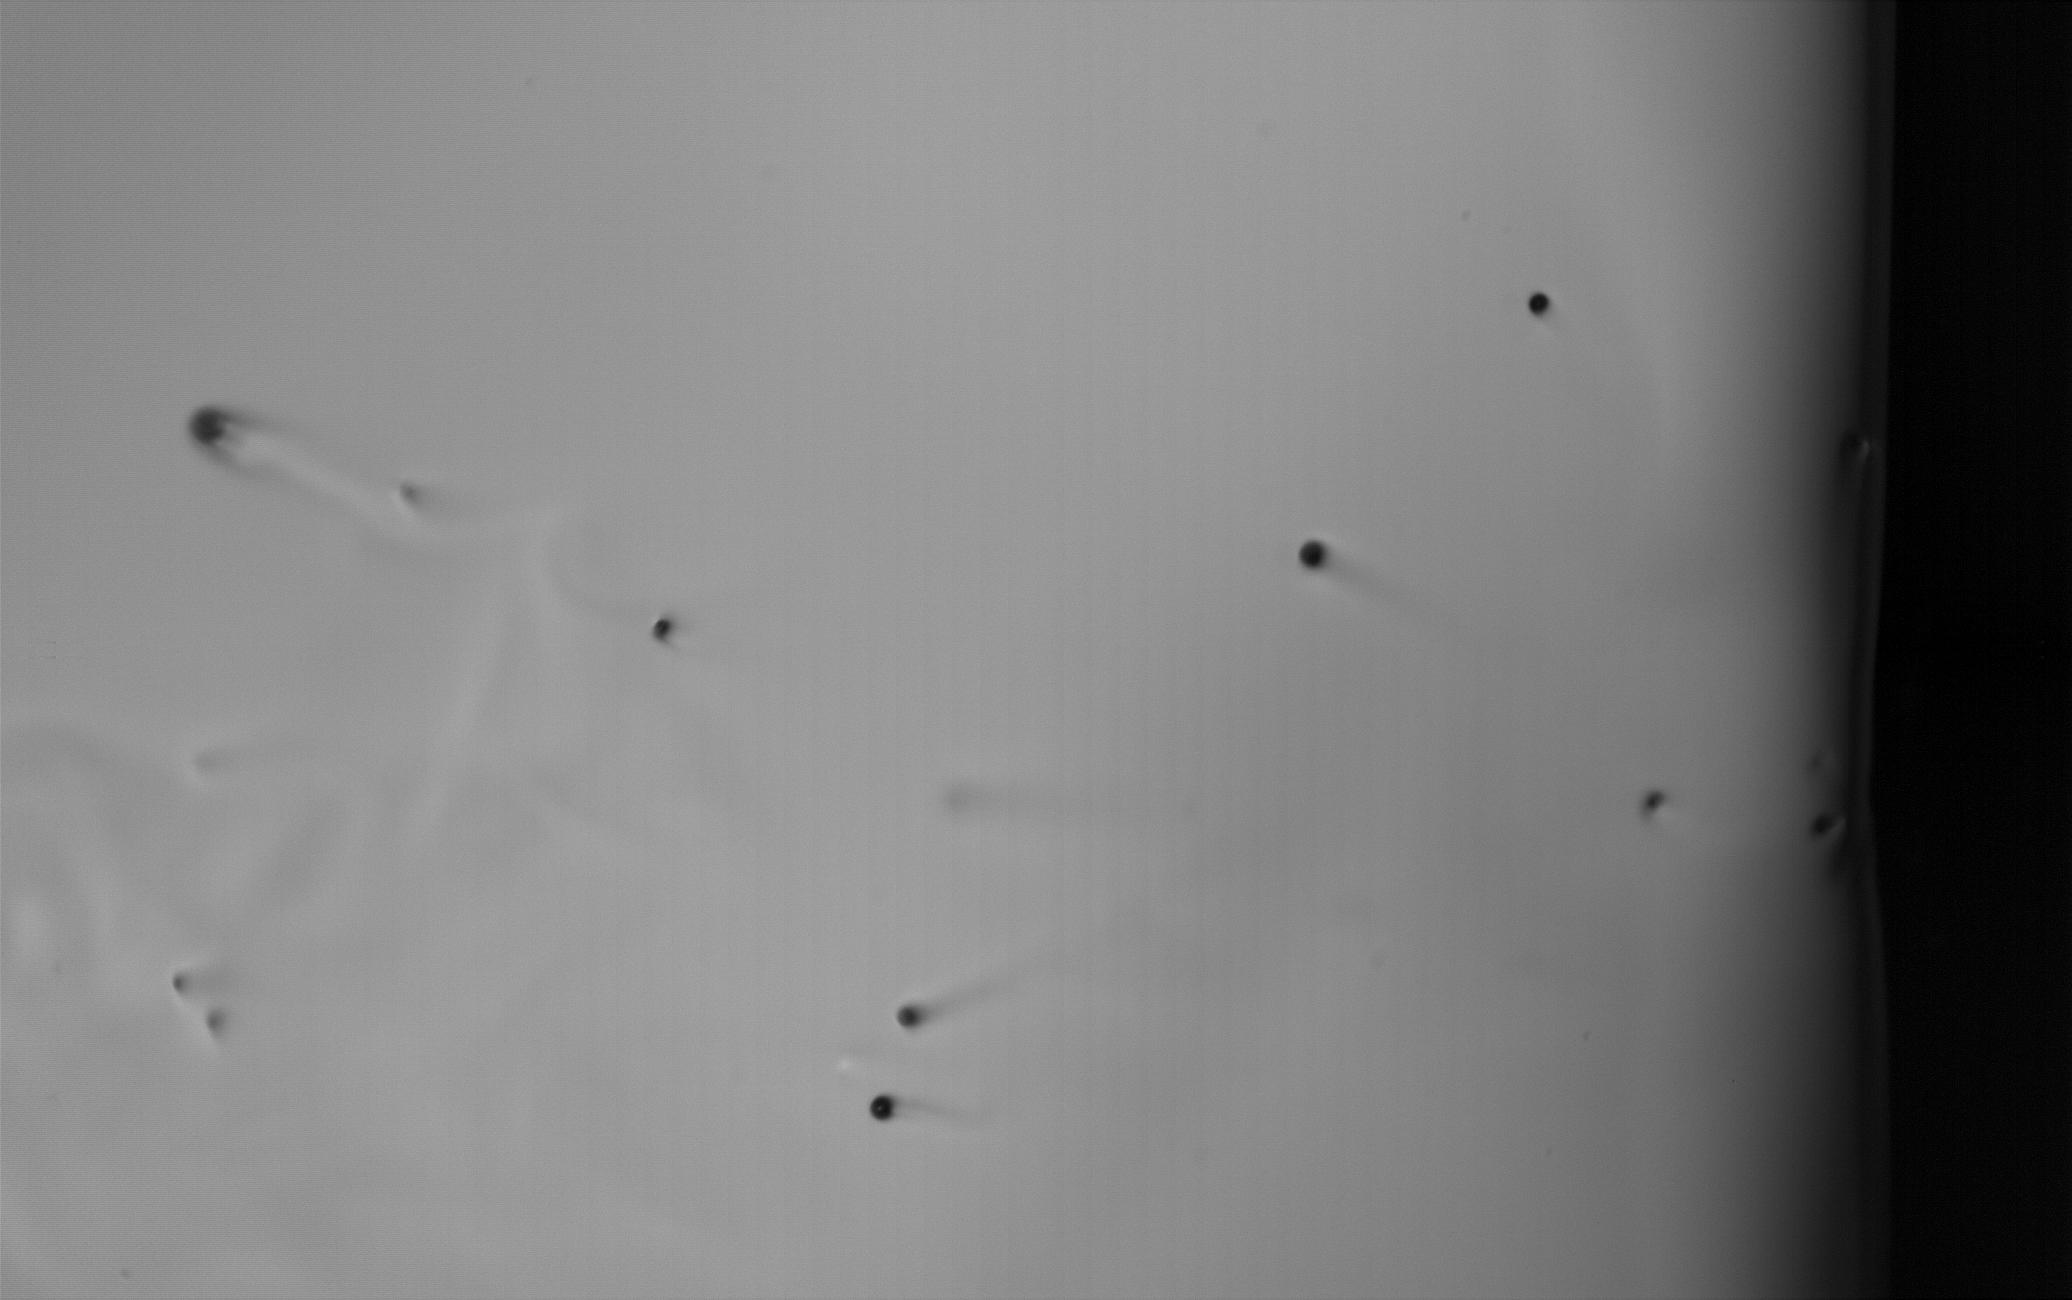Blurry: (400, 476, 436, 508)
ClassicalEvaporation: (1523, 286, 1555, 319), (1294, 541, 1326, 574), (894, 999, 927, 1032), (1638, 786, 1669, 821), (865, 1092, 897, 1125)
TransitionalMixing: (187, 392, 252, 469), (204, 1005, 228, 1042), (648, 613, 675, 643), (171, 971, 186, 996)
